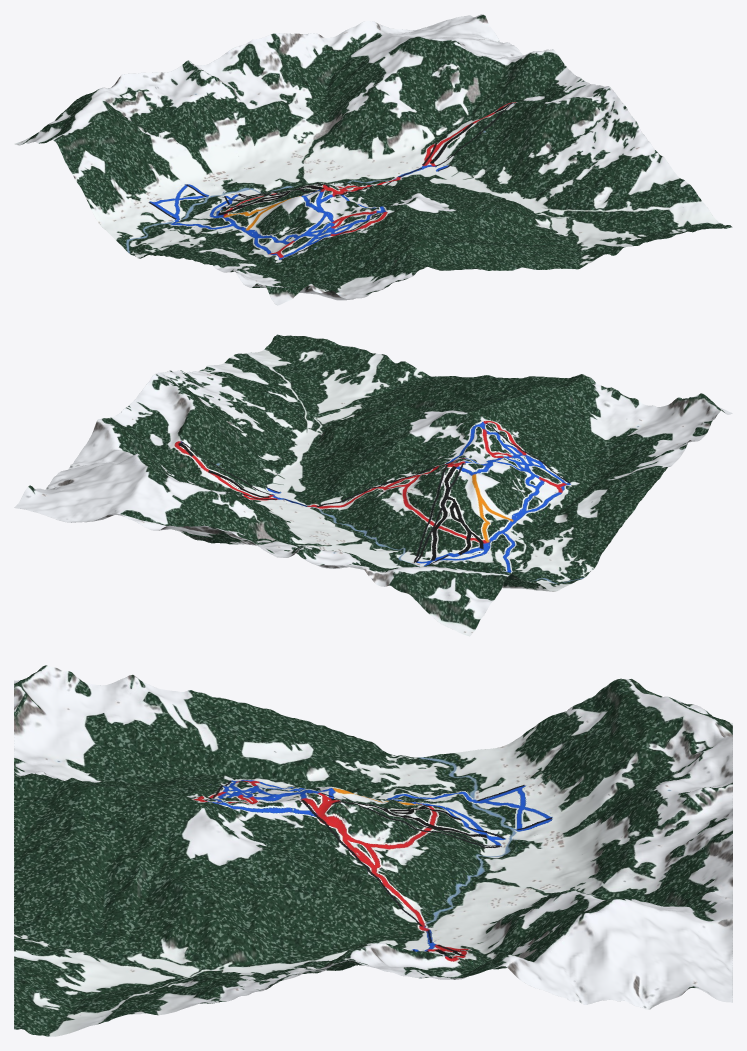
3 views of the same model, one above another, from view 1: azimuth 30°, elevation 25°; view 2: azimuth 150°, elevation 25°; view 3: azimuth 270°, elevation 25° (orthographic). The views are drawn at different scales.
Visible parts, largest first — view 1: C1_Balderschwang.glb; view 2: C1_Balderschwang.glb; view 3: C1_Balderschwang.glb.
Part boxes in pixels (bbox=[...]): C1_Balderschwang.glb: bbox=[14, 14, 732, 305]; C1_Balderschwang.glb: bbox=[14, 334, 732, 636]; C1_Balderschwang.glb: bbox=[14, 665, 732, 1036].
Bounding box in the file's own units: 5426 × 847 × 5426.
Materials: 1 (1 with a texture image).
